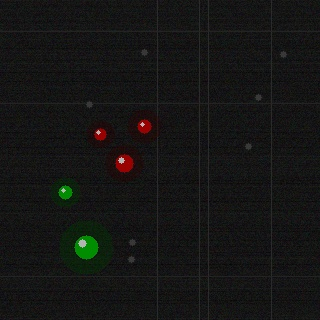green_normal: (72, 233, 100, 261), (56, 183, 74, 201)
red_fault: (113, 152, 135, 174), (135, 117, 153, 135), (92, 126, 108, 142)
